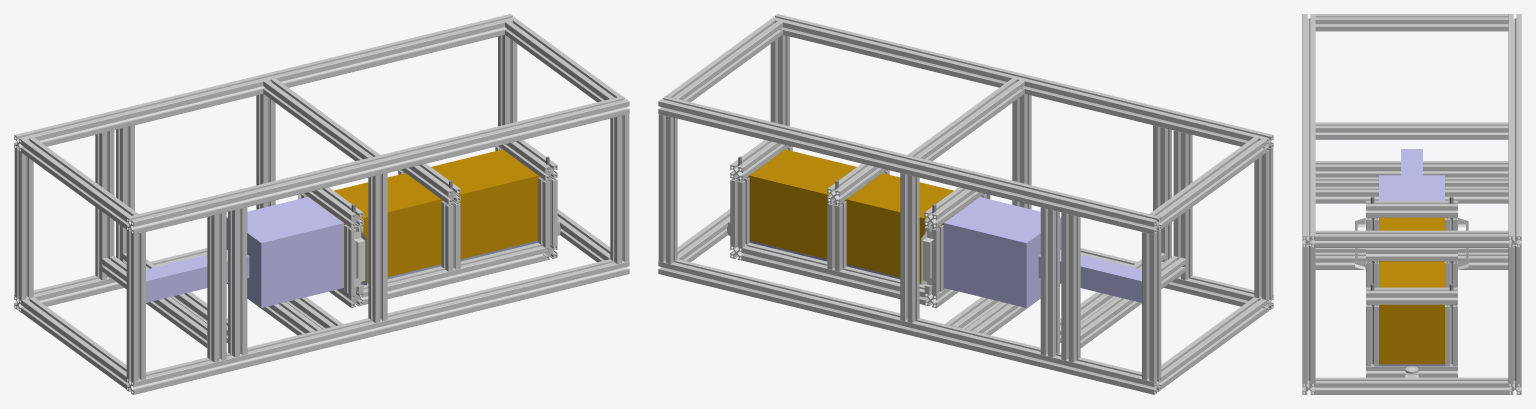
Rendered from SuperModule_Frame.glb.
The picture shows the model from 3 angles, left to right: view 1: azimuth 30°, elevation 25°; view 2: azimuth 150°, elevation 25°; view 3: azimuth 270°, elevation 25°; orthographic projection. The views are drawn at different scales.
Visible parts, largest first — view 1: Geom3D_ (×40), Geom3D (×5); view 2: Geom3D_ (×40), Geom3D (×5); view 3: Geom3D_ (×29), Geom3D (×9).
Part boxes in pixels (x1=…): Geom3D_ (×40): x1=14, y1=14, x2=629, y2=394; Geom3D (×5): x1=309, y1=149, x2=540, y2=287; Geom3D_ (×40): x1=658, y1=14, x2=1273, y2=394; Geom3D (×5): x1=747, y1=149, x2=978, y2=287; Geom3D_ (×29): x1=1302, y1=14, x2=1521, y2=394; Geom3D (×9): x1=1379, y1=217, x2=1444, y2=364.
Bounding box in the file's own units: 1.2 × 0.4 × 0.5.
6 materials, 1 textured.
